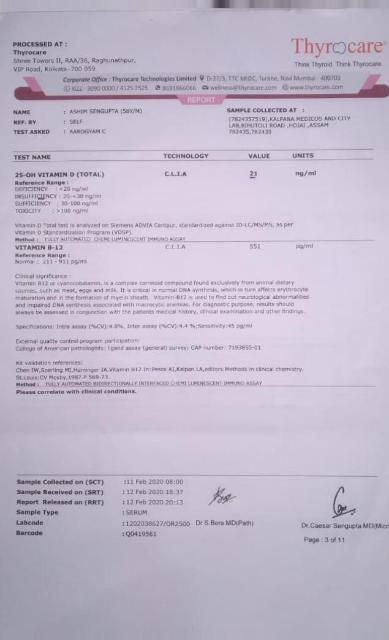Clinical_Conditions: (13, 273, 317, 318)
Name: (69, 108, 143, 115)
Ref_By: (68, 117, 85, 125)
Technology: (163, 168, 190, 181), (163, 243, 189, 254)
Test_Asked: (67, 127, 108, 136)
Test_Name: (13, 169, 113, 217), (13, 243, 91, 269)
Unit: (294, 242, 325, 254), (295, 169, 319, 179)
Value: (248, 242, 264, 253), (247, 169, 261, 181)
